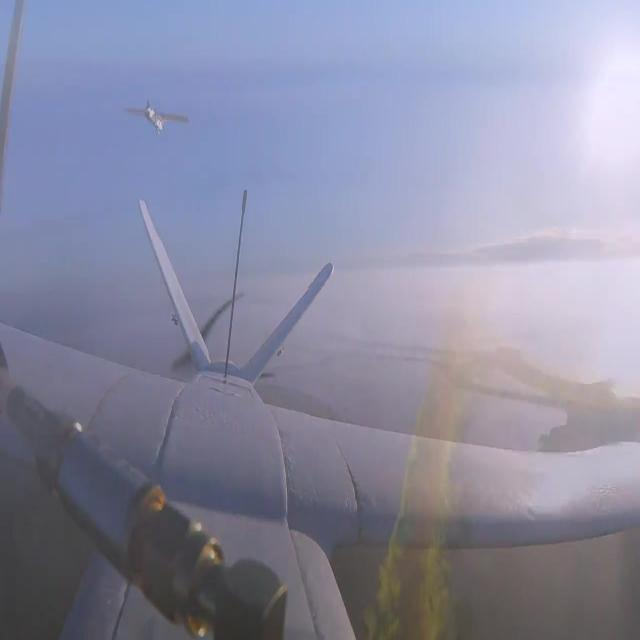iha: (154, 33, 158, 72)
